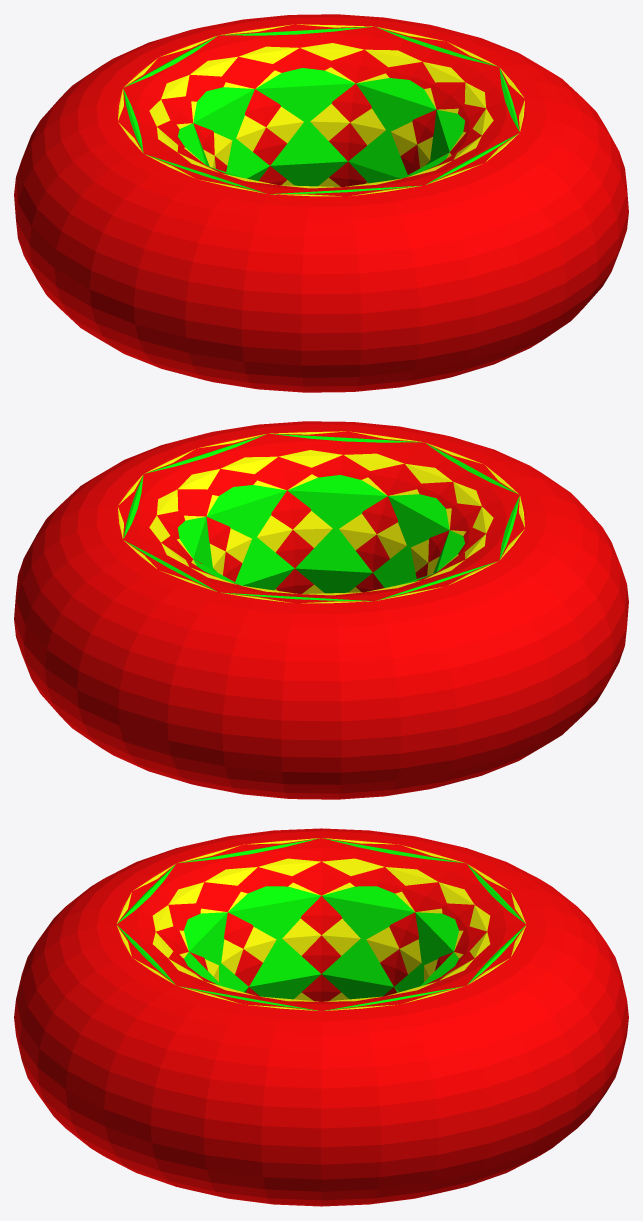
The picture shows the model from 3 angles, top to bottom: view 1: azimuth 30°, elevation 25°; view 2: azimuth 150°, elevation 25°; view 3: azimuth 270°, elevation 25°; orthographic projection.
Parts seen in each view (by area): view 1: High_LOD, Low_LOD, Medium_LOD; view 2: High_LOD, Low_LOD, Medium_LOD; view 3: High_LOD, Low_LOD, Medium_LOD.
Part boxes in pixels (x1,y1,x2,y2): High_LOD: (14,14,628,392); Low_LOD: (123,26,519,194); Medium_LOD: (118,24,524,196); High_LOD: (14,421,628,799); Low_LOD: (123,433,519,601); Medium_LOD: (118,431,524,603); High_LOD: (14,828,628,1206); Low_LOD: (117,838,525,1010); Medium_LOD: (117,838,525,1010).
Size of the model in its own units: 0.6 by 0.2 by 0.6.
